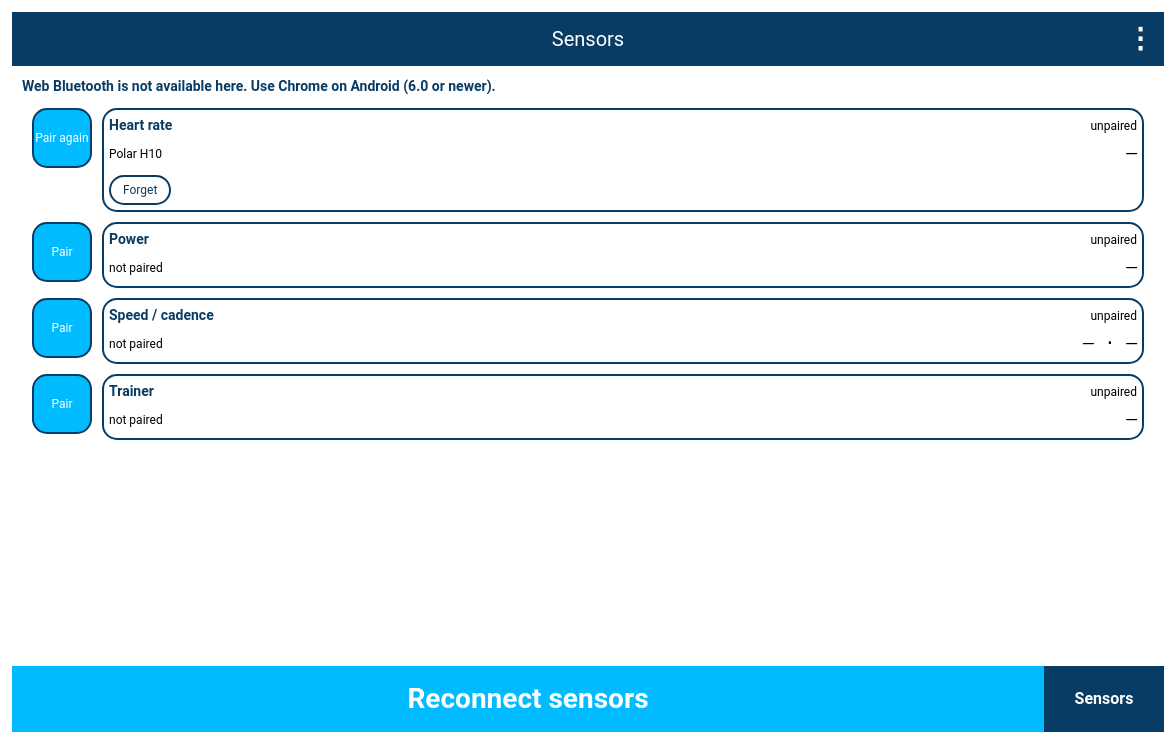
Test: SensorsScreen › asks before re-pairing an occupied slot, because pair() forgets the old device first
Click the button with aria-label "pair heart rate": (62, 138) x1=32 y1=108 x2=92 y2=168
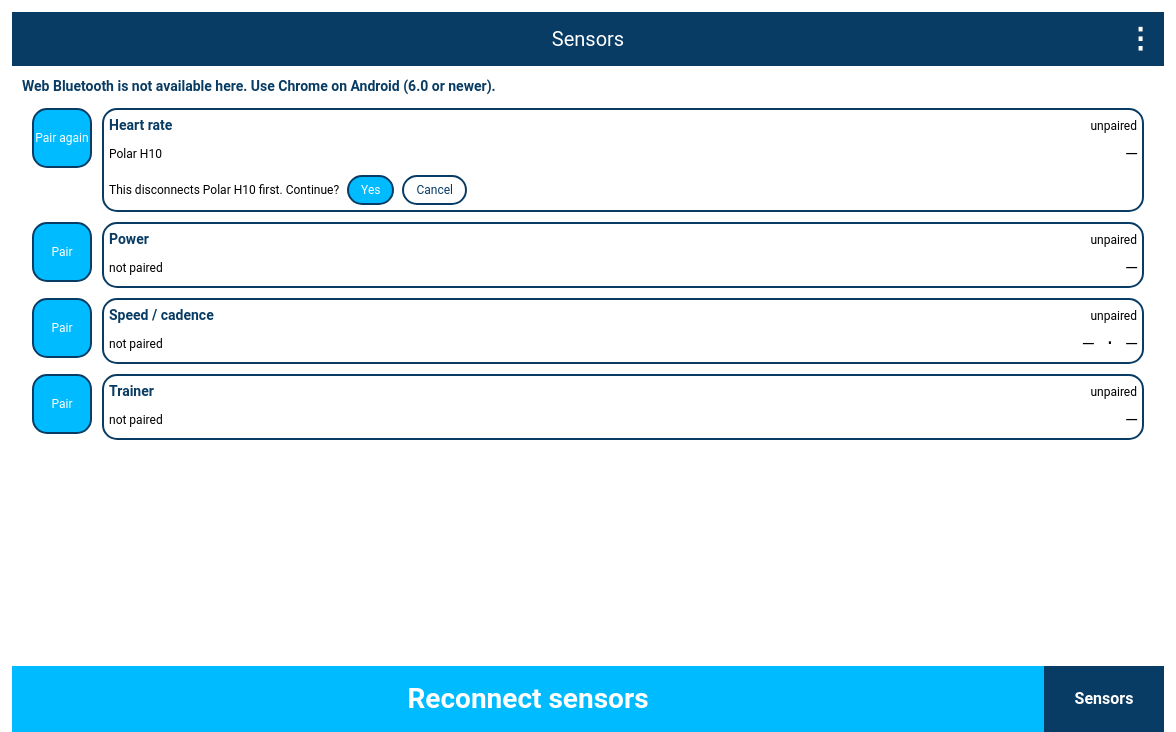
Expected: the text "This disconnects Polar H10 first. Continue?" is shown, x1=109 y1=181 x2=339 y2=199
Click the button "Yes": (371, 190) x1=347 y1=175 x2=394 y2=205
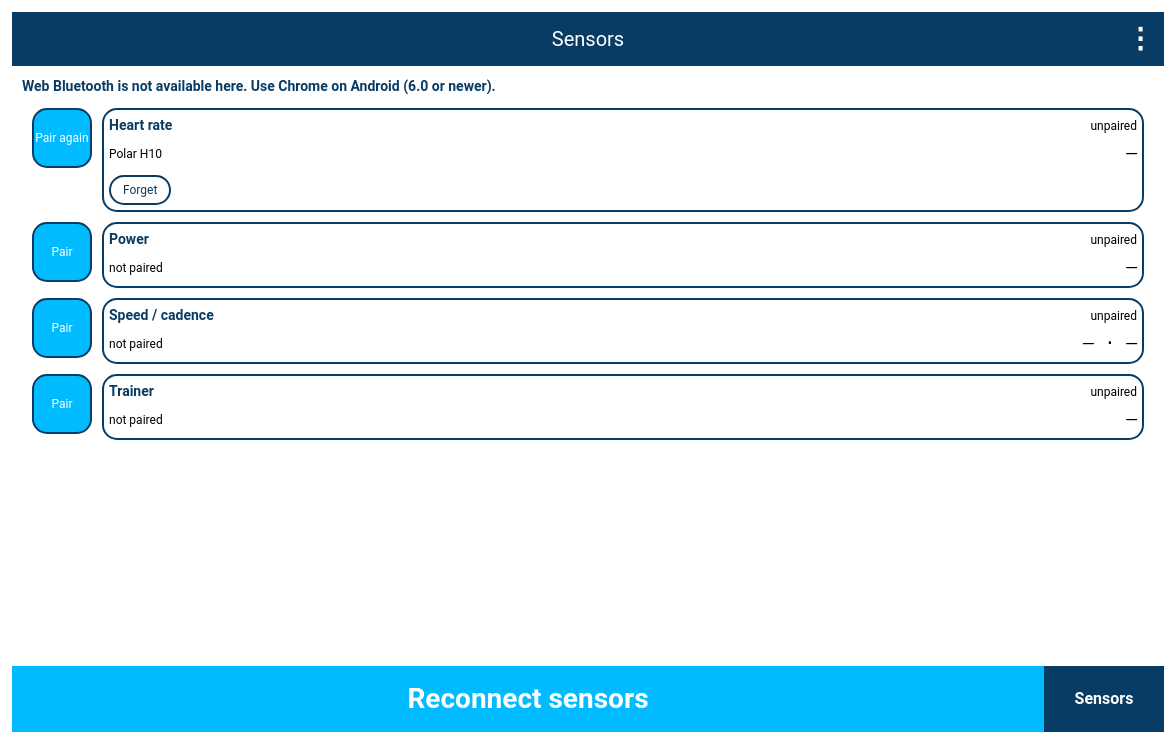
Expected: the text "disconnects Polar H10 first" is gone
